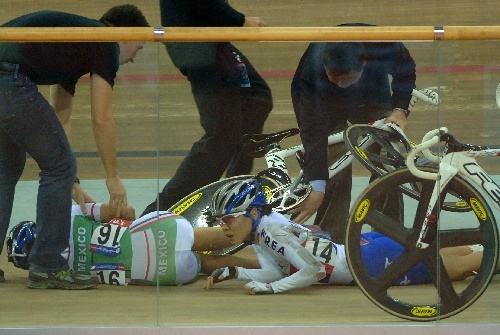falling: (12, 180, 268, 292)
